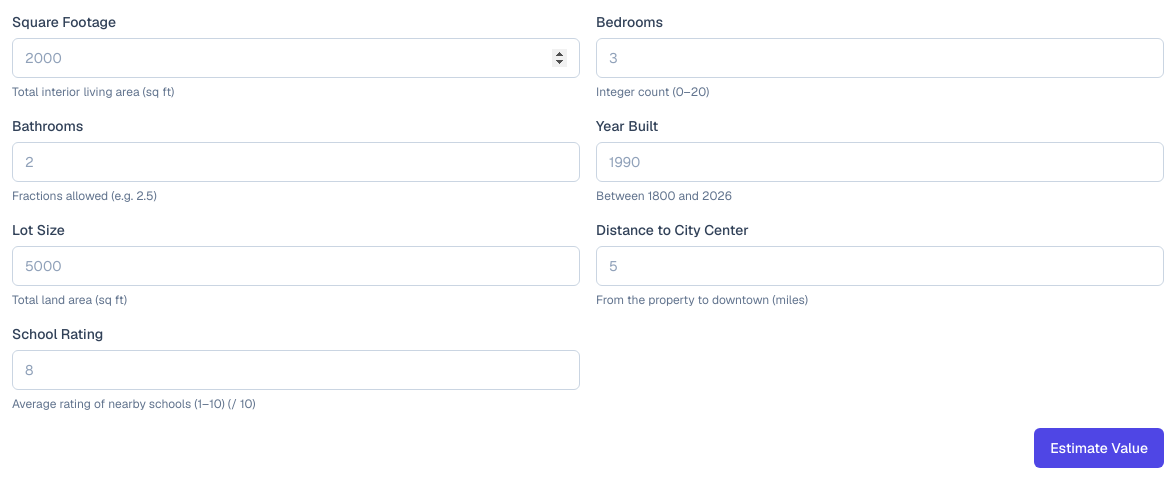
Test: EstimatorForm › shows a range error when a value is out of bounds
Type "15" into the number field labelled "School Rating" at {"x": 296, "y": 370}, box [12,350,580,390]
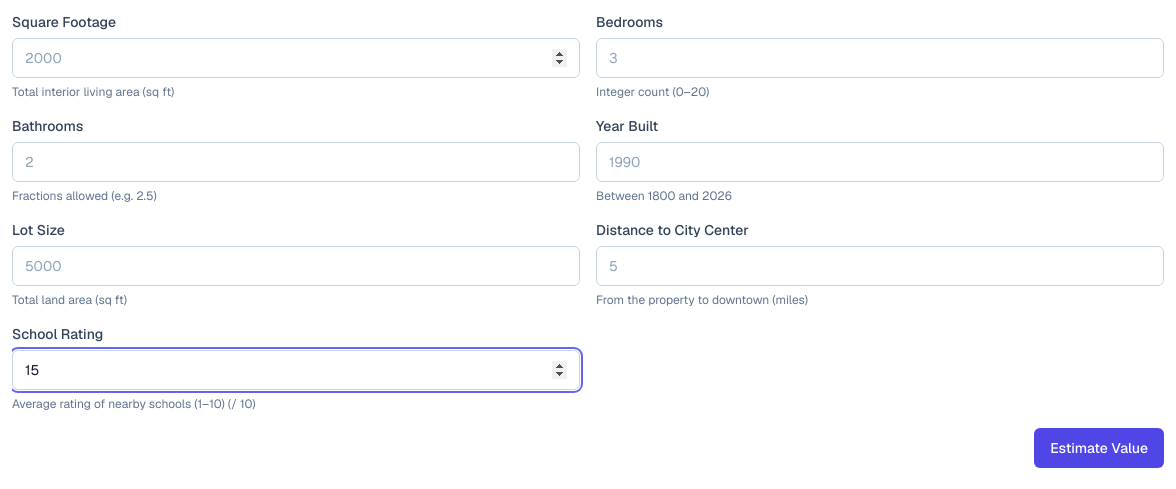
Click the button "Estimate Value" at {"x": 1099, "y": 448}, box [1034,428,1164,468]
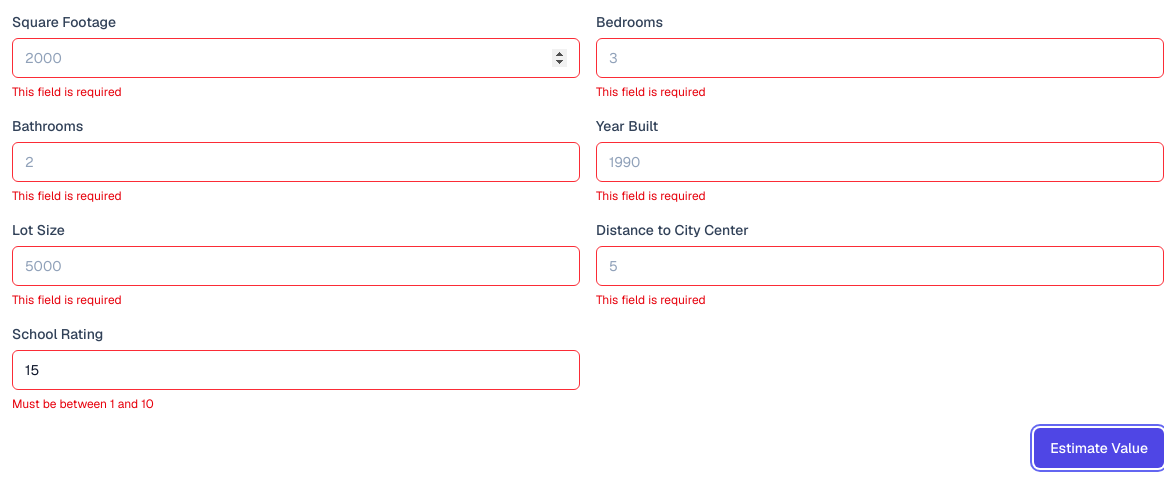
Check: the message "Must be between 1 and 10" is shown, box [12,396,154,412]
